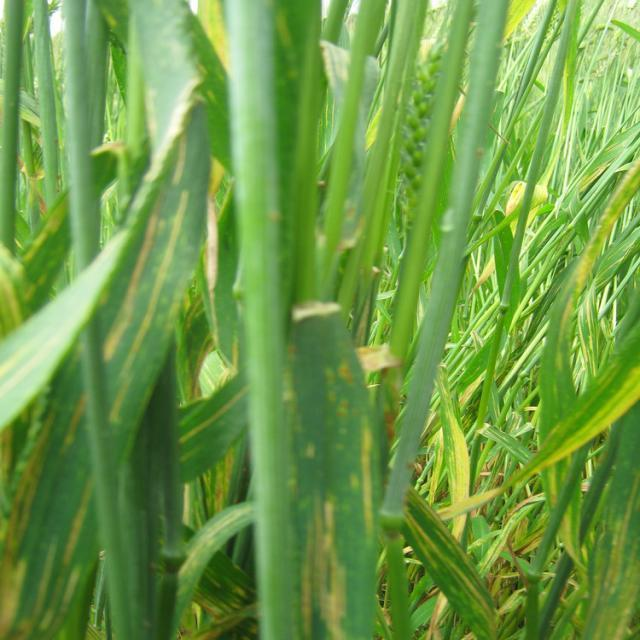Yellow_Rust: (0, 4, 216, 639), (438, 329, 639, 513), (291, 306, 382, 639)
